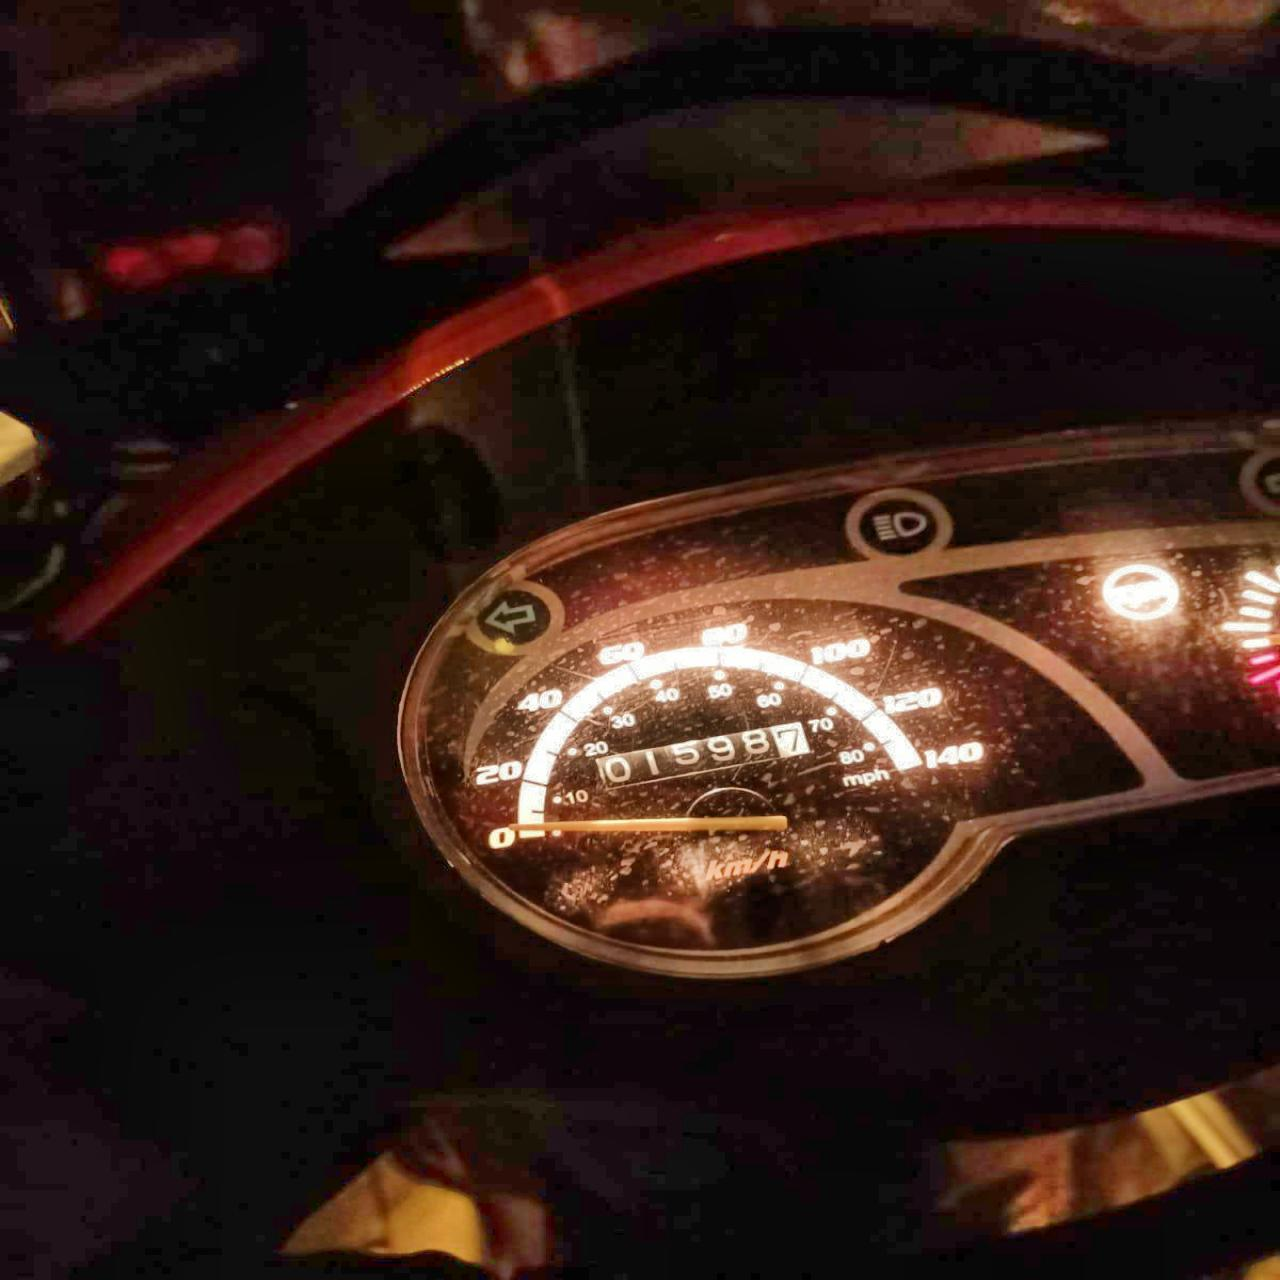0: (601, 756, 633, 783), (621, 712, 636, 727), (595, 737, 610, 753), (821, 716, 831, 730)
1: (639, 747, 662, 777)
2: (584, 742, 595, 756)
3: (610, 714, 622, 728)
5: (669, 738, 701, 767)
7: (776, 728, 802, 754), (808, 716, 821, 734)
8: (741, 728, 772, 754)
9: (706, 734, 736, 761)
odometer: (584, 716, 831, 795)
